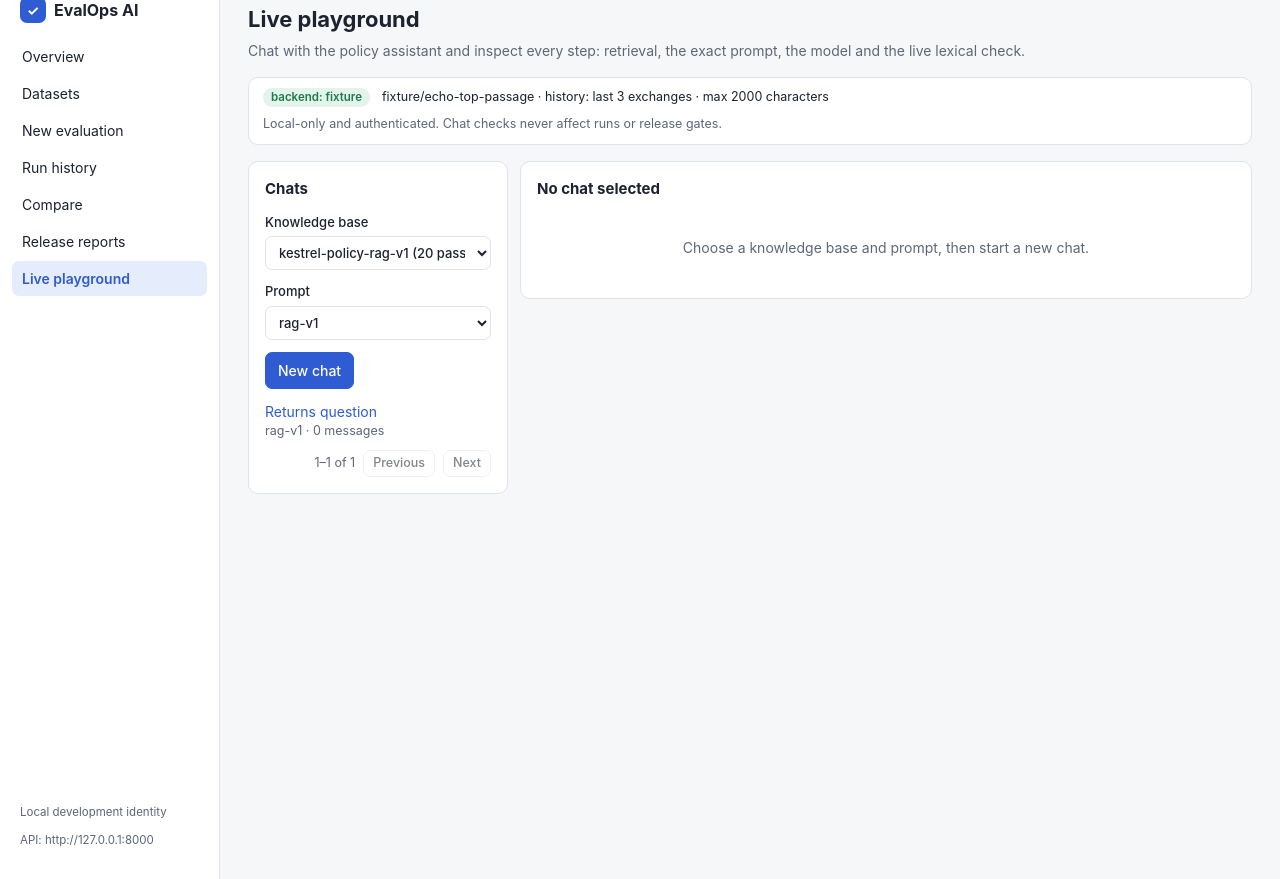
Test case: Live playground › requires human-selected evidence before saving a test case
This screenshot has width=1280, height=879.
Click the button "Returns question".
click(321, 411)  # box [265,400,377,422]
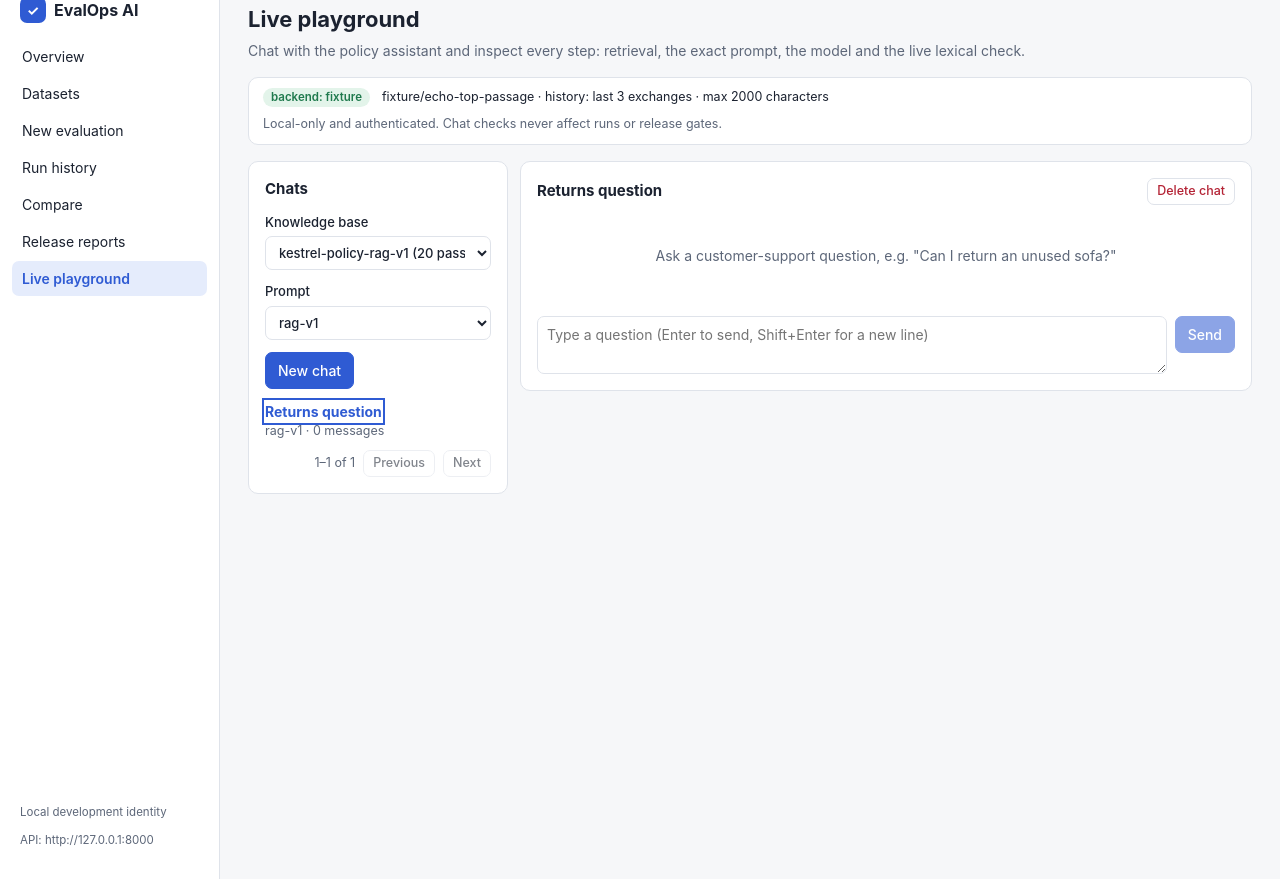
Type "Can I return an unused sofa?" into the text box named "Message".
click(852, 345); type("Can I return an unused sofa?")  # box [537,316,1167,374]
Then press Enter
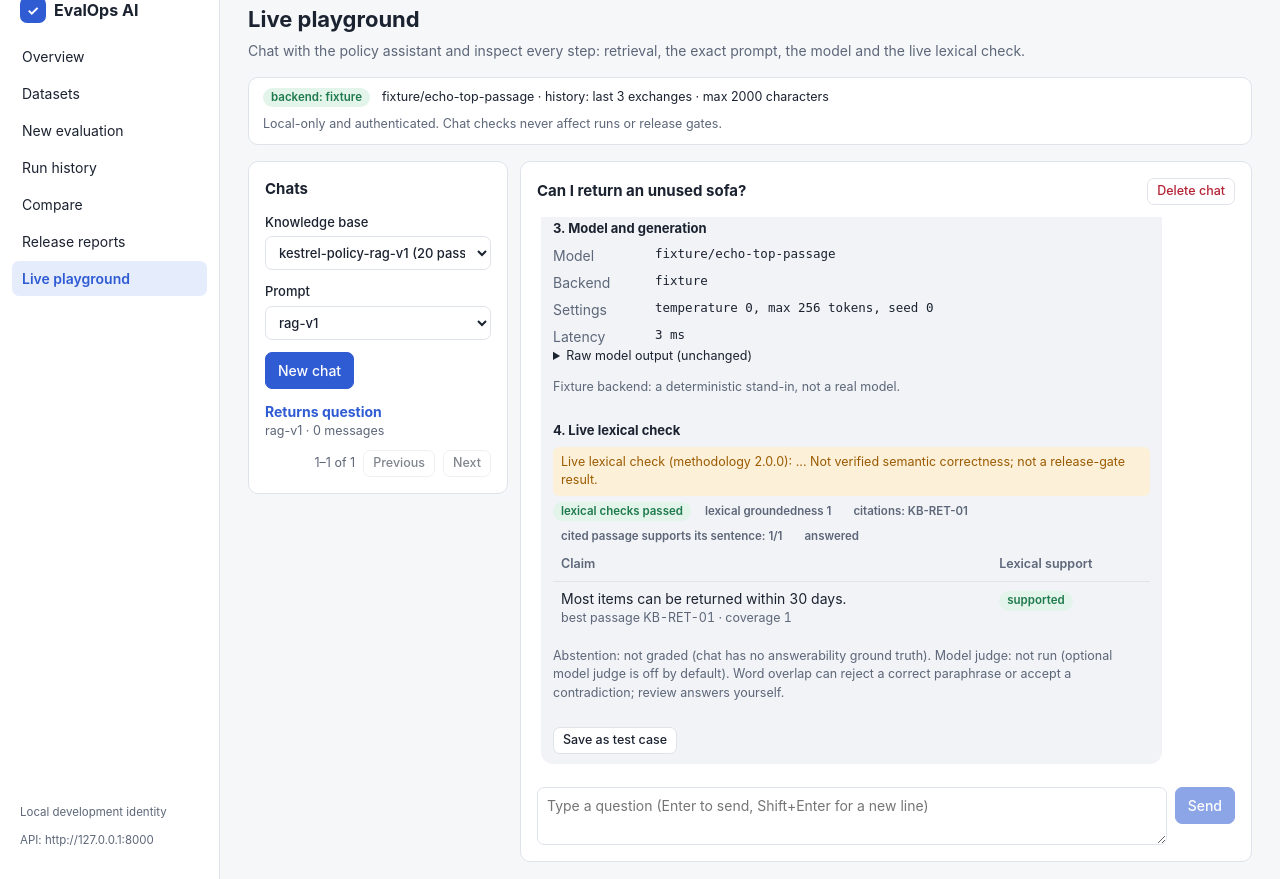
Click the button "Save as test case".
click(615, 741)  # box [553,727,677,754]
(page scrolled)
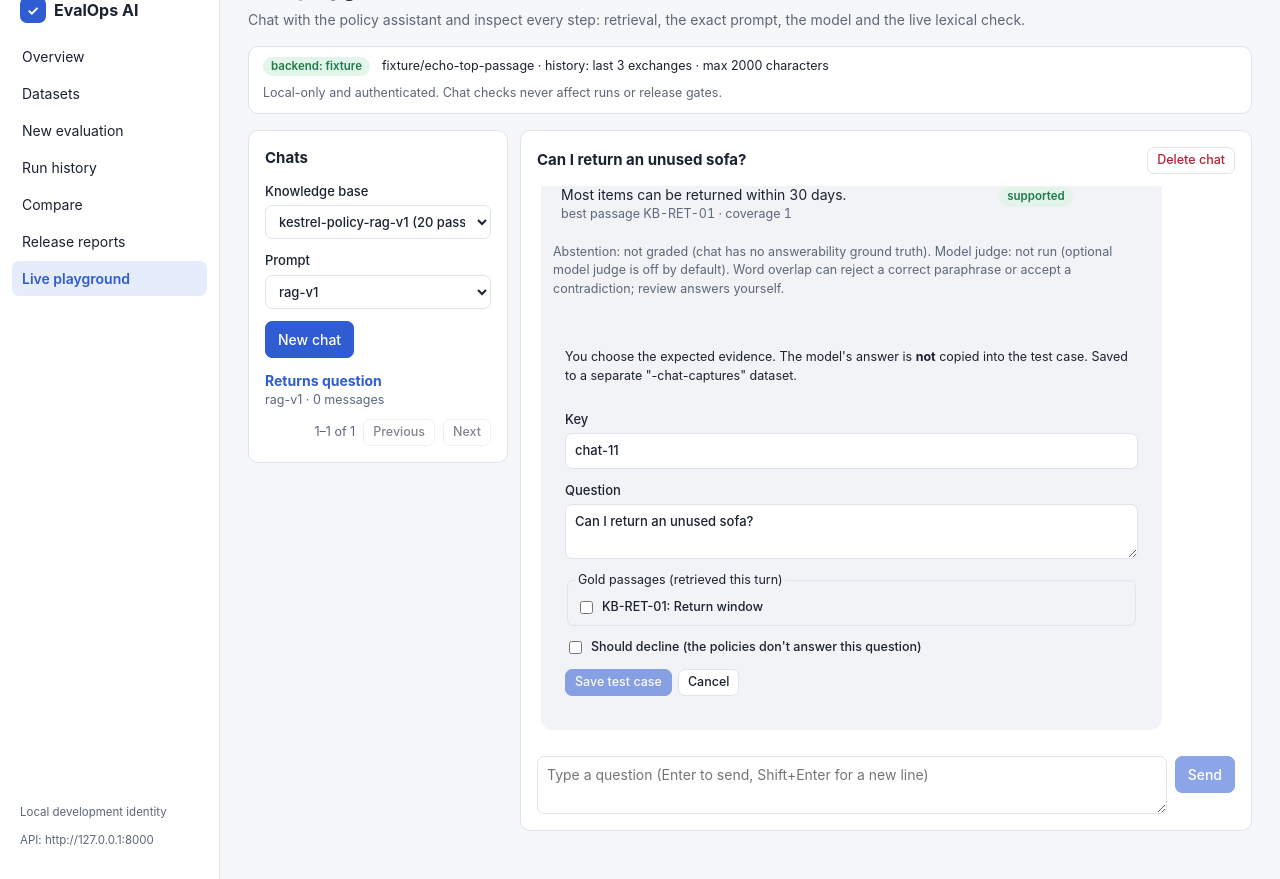
expect the button "Save test case" is disabled: met, box [565,669,672,696]
expect the checkbox labelled "KB-RET-01: Return window" is not checked: met
Click the checkbox labelled "KB-RET-01: Return window".
click(586, 608)  # box [580,601,593,614]
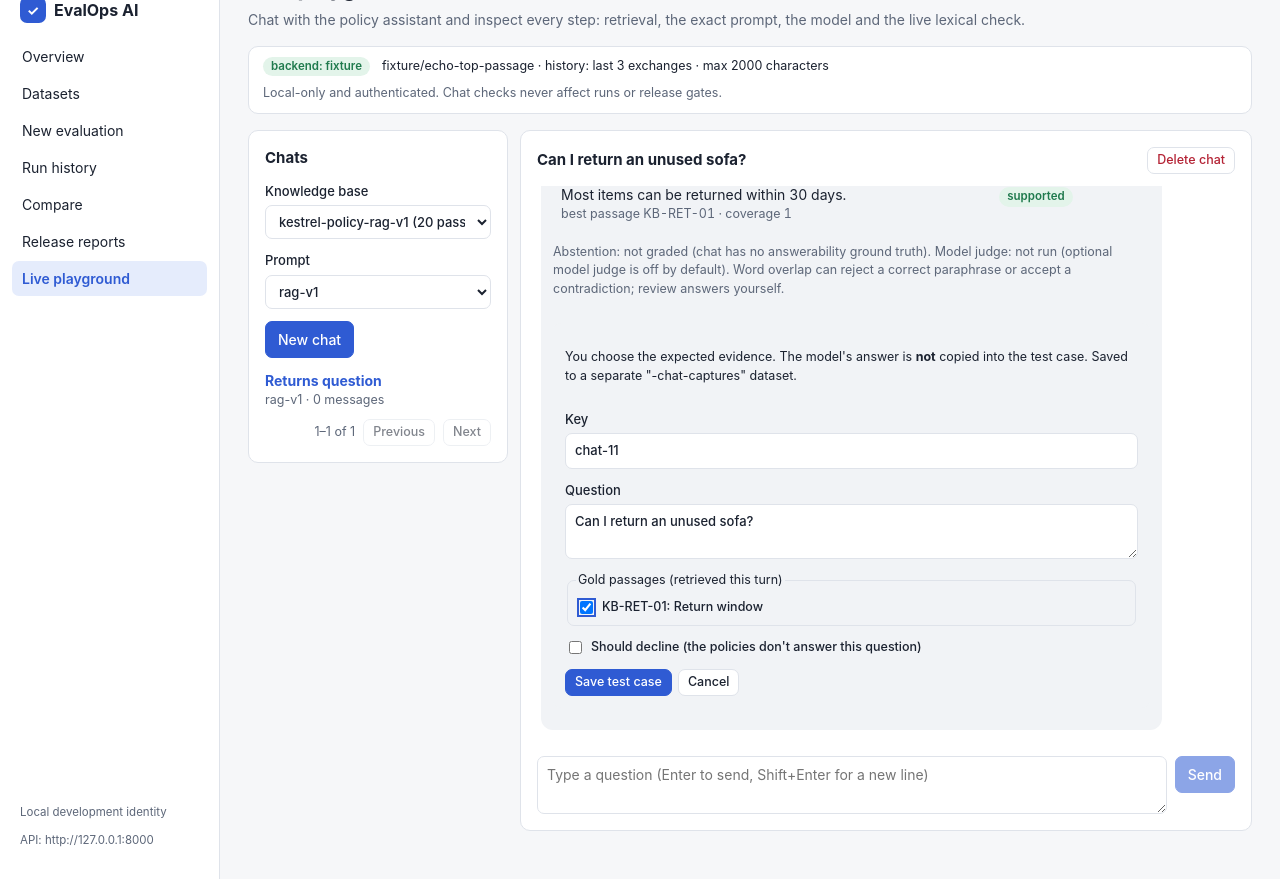
Click the button "Save test case".
click(618, 682)  # box [565,669,672,696]
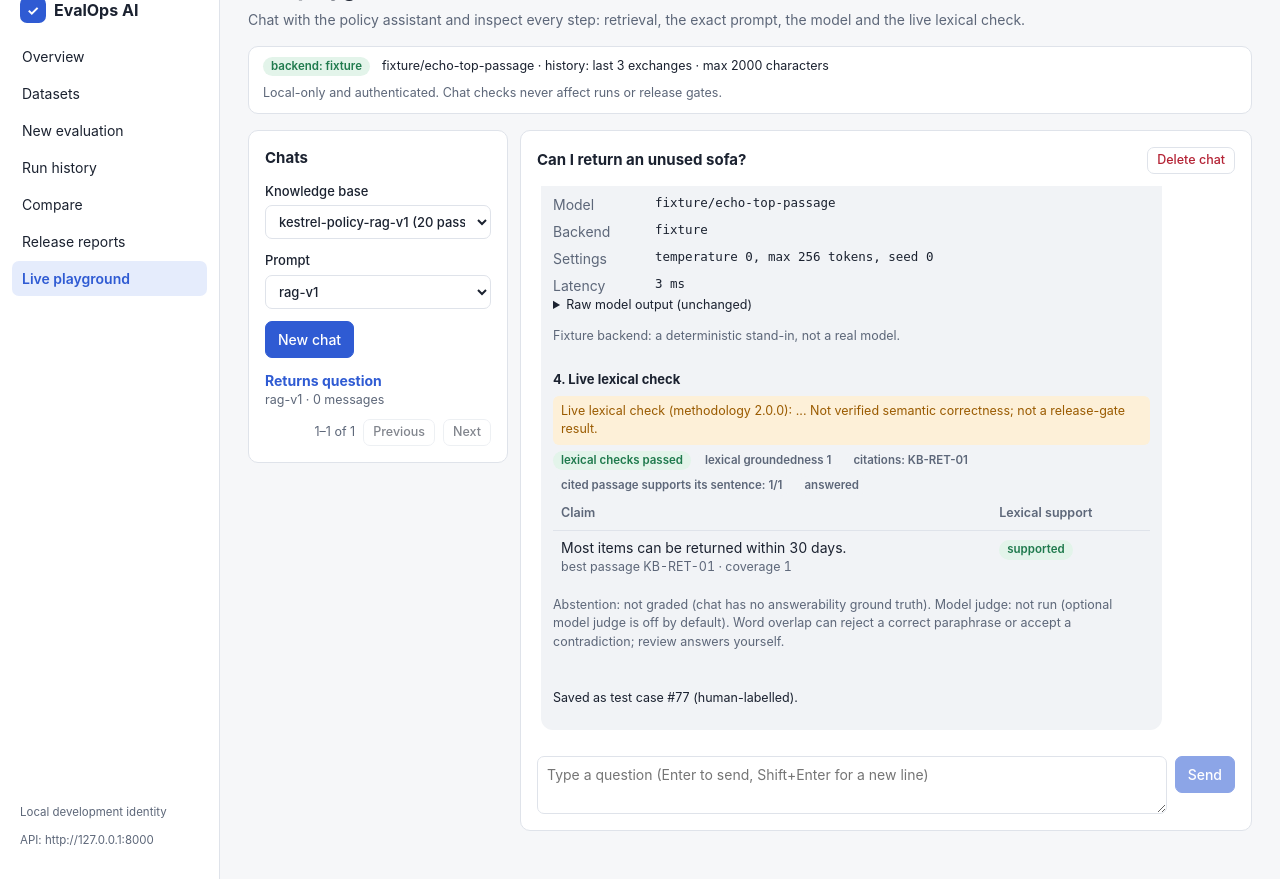
expect the text with test id "saved-test-case" shows "#77": met, box [553,690,798,705]
